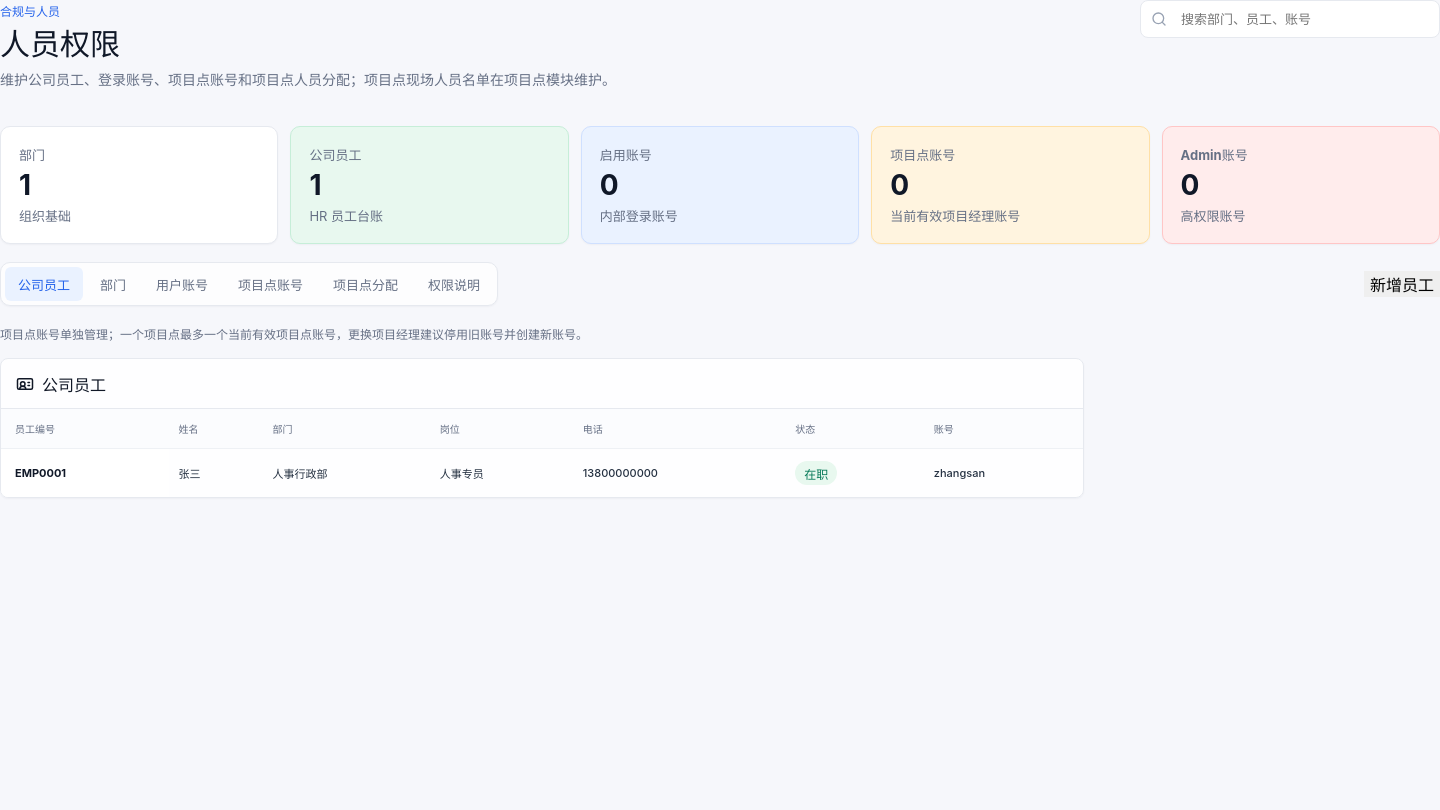
Test: 人员权限 行内校验 › 账号必填为空时显示行内错误且不调接口
Expected: the text "EMP0001" is shown, top-left (1, 449), bottom-right (169, 498)
Click the tab "用户账号".
click(182, 284)  # box top-left (143, 268), bottom-right (221, 302)
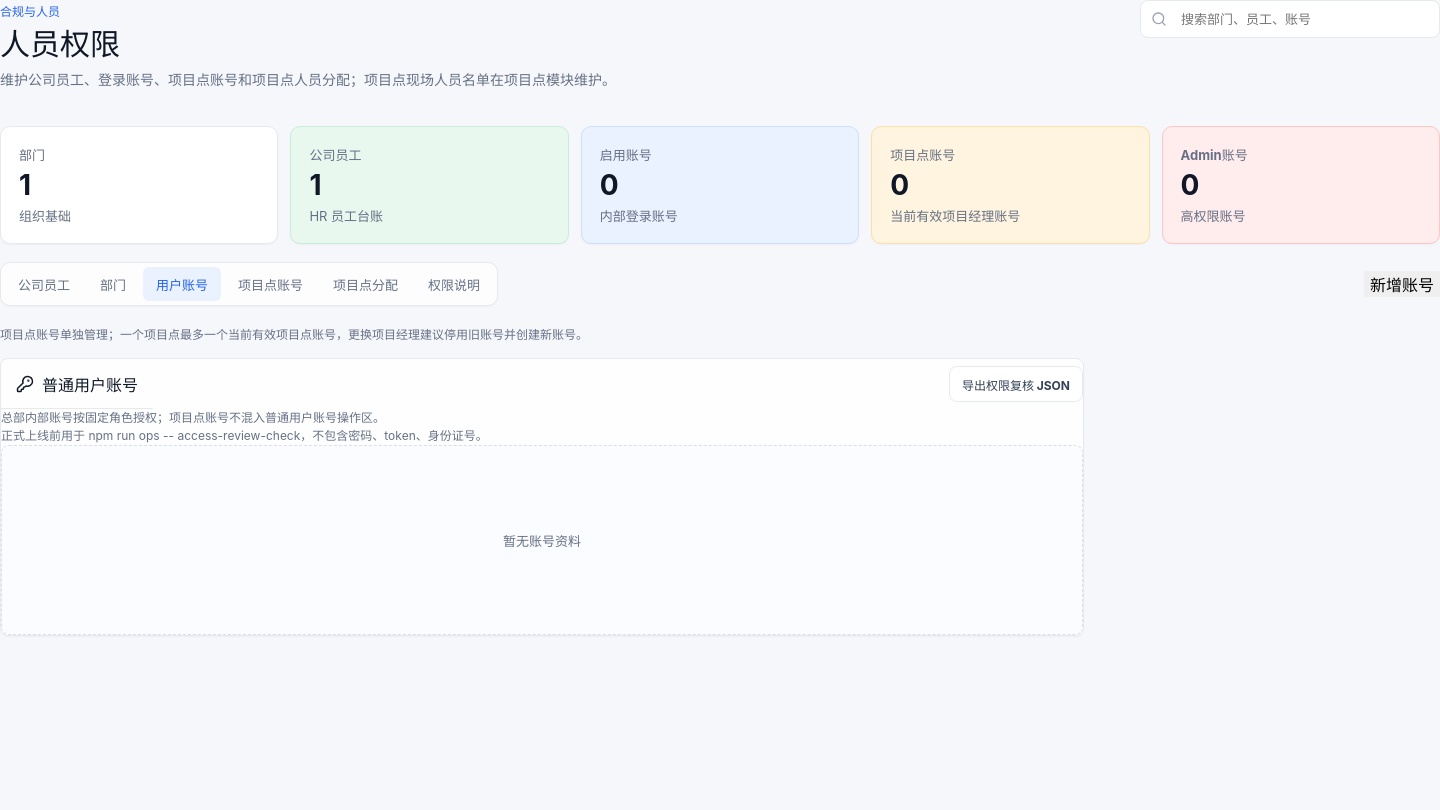
Click the button "新增账号".
click(1402, 284)  # box top-left (1364, 272), bottom-right (1439, 298)
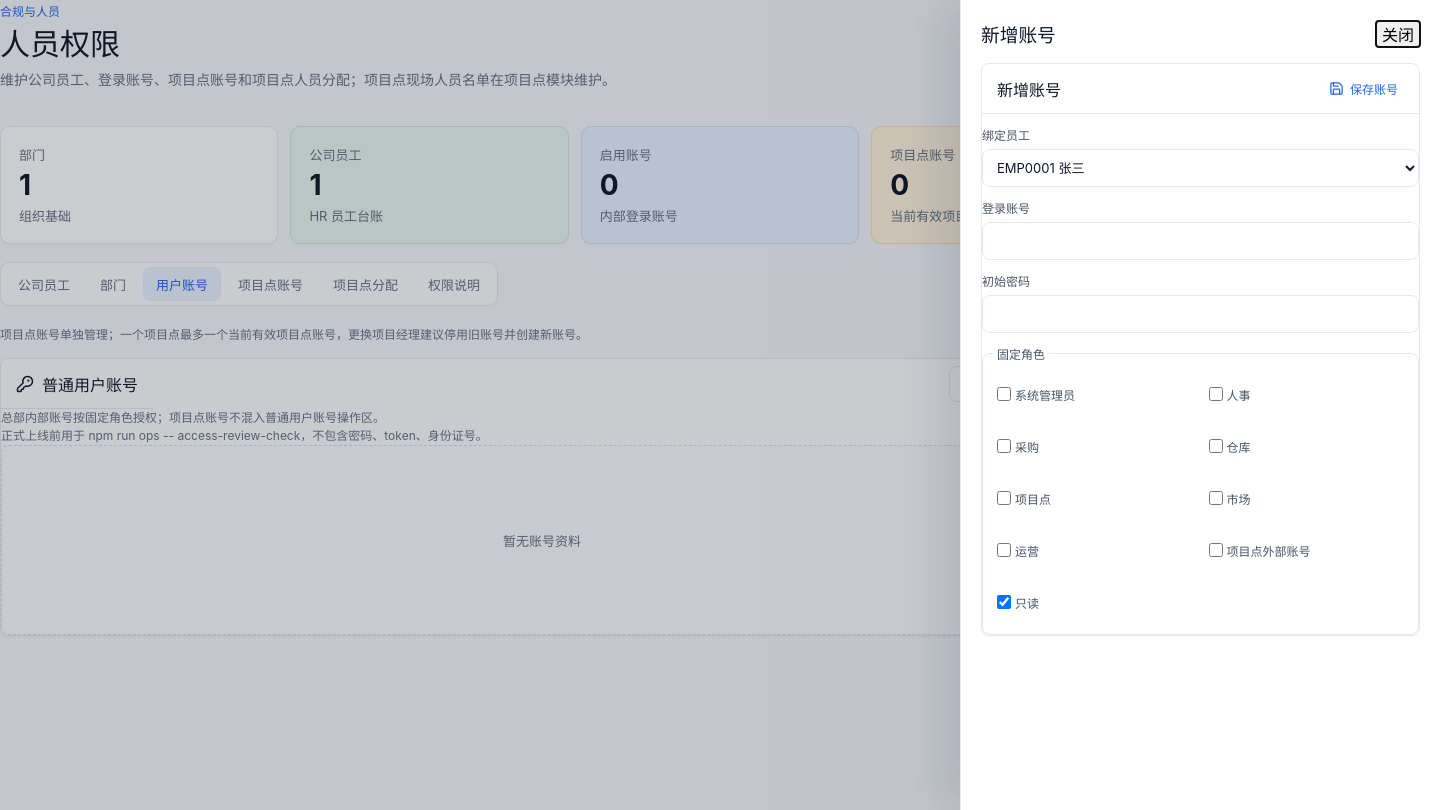
Click the button "保存账号".
click(1364, 88)  # box top-left (1323, 79), bottom-right (1404, 98)
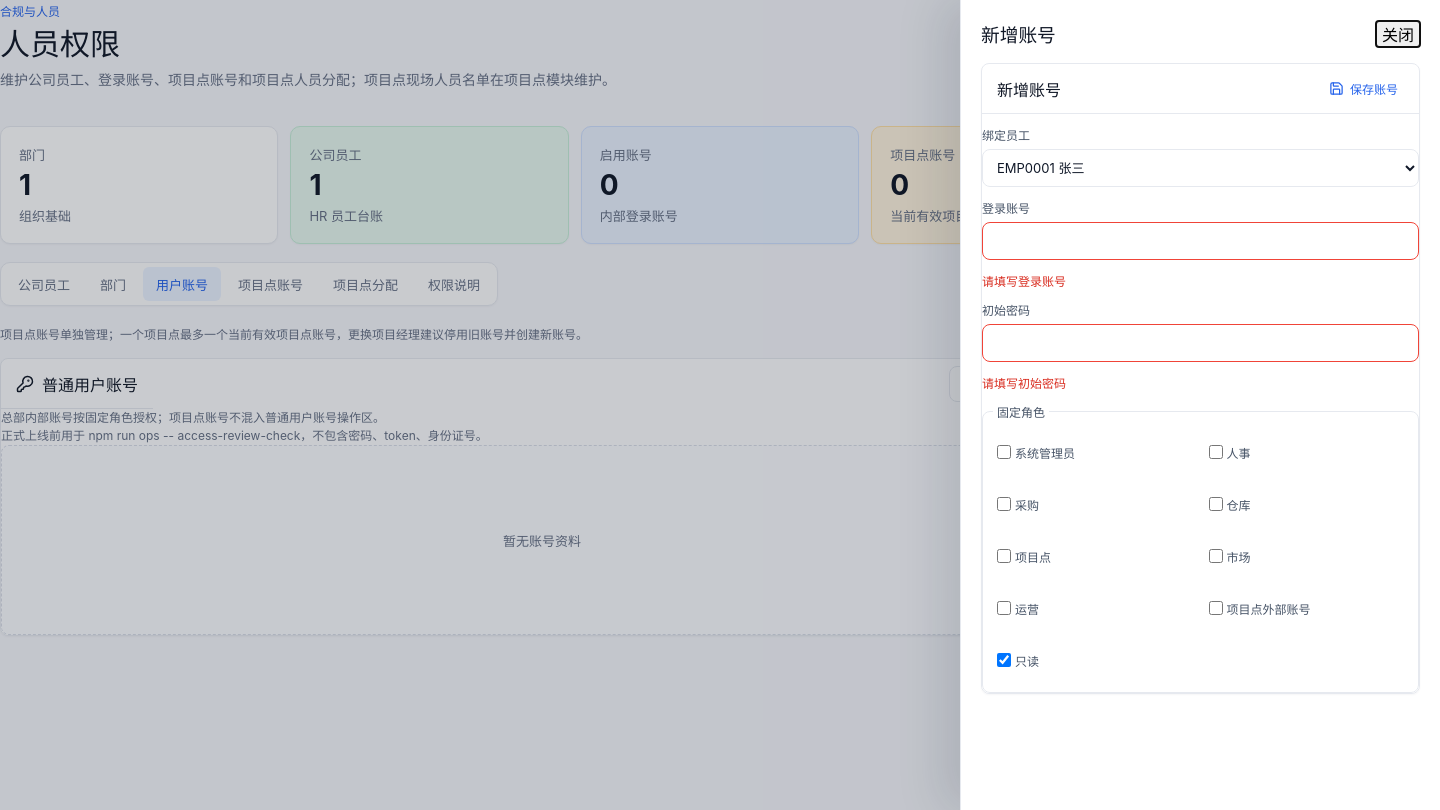
Result: the text "请填写登录账号" is shown at top-left (982, 274), bottom-right (1066, 289)
Result: the text "请填写初始密码" is shown at top-left (982, 376), bottom-right (1066, 391)
